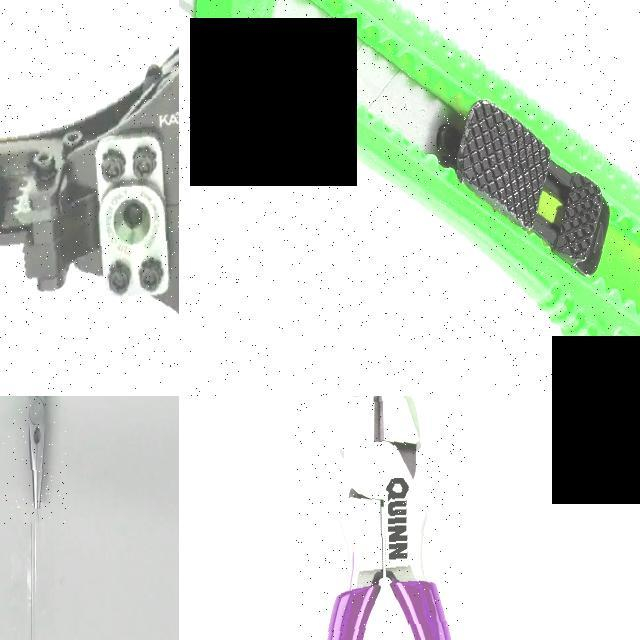estilete: (192, 0, 639, 334)
